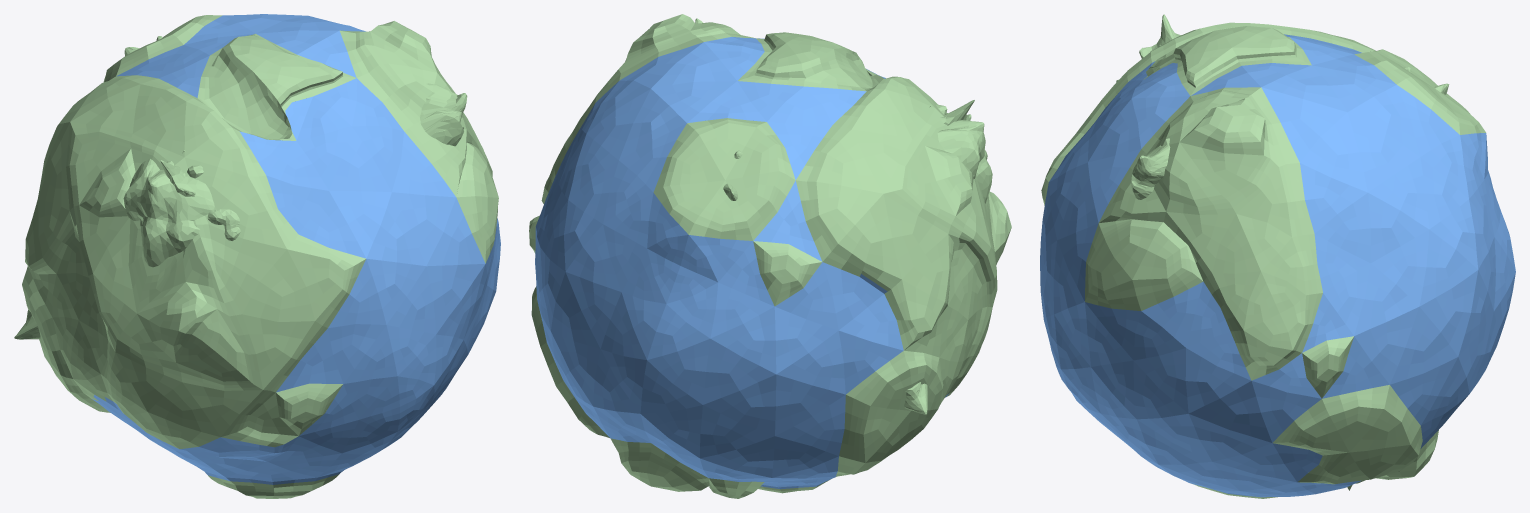
The model's file is earth.gltf.
3 renders of one model, left to right at view 1: azimuth 30°, elevation 25°; view 2: azimuth 150°, elevation 25°; view 3: azimuth 270°, elevation 25°, orthographic. The views are drawn at different scales.
Parts seen in each view (by area): view 1: Earth_Planet1_Planet_Earth_body1_Earth_body, Earth_Planet1_Planet_Mounts_Green_Mount4_Mount5, Earth_Planet1_Planet_Mounts_Green_Mount13_Mount12_EarthGreen, Earth_Planet1_Planet_Mounts_Green_Mount8_Mount9, Earth_Planet1_Planet_Mounts_Green_Mount6_Mount7; view 2: Earth_Planet1_Planet_Earth_body1_Earth_body, Earth_Planet1_Planet_Mounts_Green_Mount4_Mount5, Earth_Planet1_Planet_Mounts_Green_Mount_Mount1; view 3: Earth_Planet1_Planet_Earth_body1_Earth_body, Earth_Planet1_Planet_Mounts_Green_Mount13_Mount12_EarthGreen.
Boxes of the visible parts, bbox=[...] form: Earth_Planet1_Planet_Earth_body1_Earth_body: bbox=[22, 14, 500, 498]; Earth_Planet1_Planet_Mounts_Green_Mount4_Mount5: bbox=[123, 159, 214, 267]; Earth_Planet1_Planet_Mounts_Green_Mount13_Mount12_EarthGreen: bbox=[420, 83, 467, 146]; Earth_Planet1_Planet_Mounts_Green_Mount8_Mount9: bbox=[160, 150, 203, 196]; Earth_Planet1_Planet_Mounts_Green_Mount6_Mount7: bbox=[207, 209, 240, 240]; Earth_Planet1_Planet_Earth_body1_Earth_body: bbox=[529, 14, 1011, 498]; Earth_Planet1_Planet_Mounts_Green_Mount4_Mount5: bbox=[937, 113, 992, 203]; Earth_Planet1_Planet_Mounts_Green_Mount_Mount1: bbox=[904, 382, 927, 414]; Earth_Planet1_Planet_Earth_body1_Earth_body: bbox=[1040, 22, 1515, 498]; Earth_Planet1_Planet_Mounts_Green_Mount13_Mount12_EarthGreen: bbox=[1131, 138, 1170, 199].
Bounding box in the file's own units: 0.0181 × 0.0177 × 0.0172.
